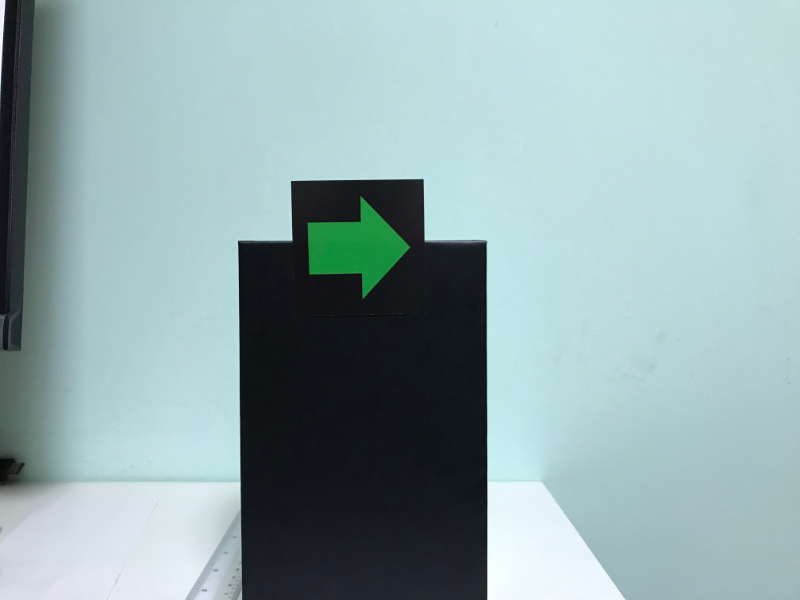RA-3: (295, 184, 422, 311)
